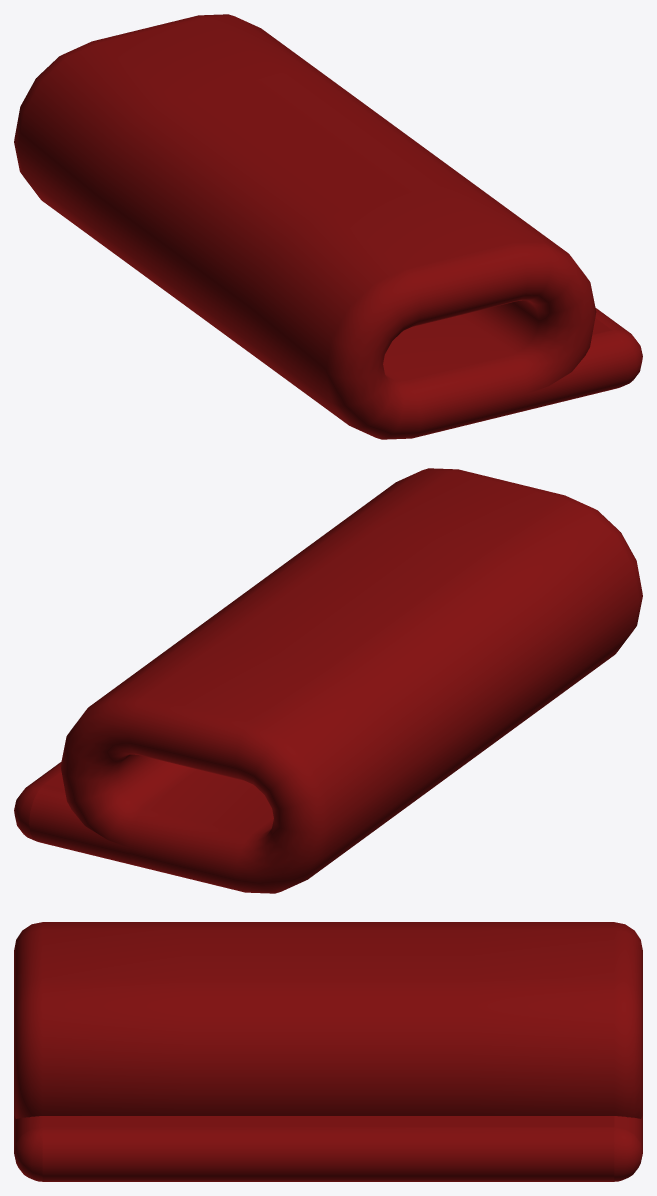
Rendered from LastLuna_Model_Item_Cloth.fbx.
3 views of the same model, one above another, from view 1: azimuth 30°, elevation 25°; view 2: azimuth 150°, elevation 25°; view 3: azimuth 270°, elevation 25° (orthographic). The views are drawn at different scales.
Parts seen in each view (by area): view 1: Cloth001; view 2: Cloth001; view 3: Cloth001.
Boxes of the visible parts, box(x1,y1,x2,y2) form: Cloth001: box(14, 14, 642, 439); Cloth001: box(14, 468, 642, 893); Cloth001: box(14, 922, 642, 1181).
Bounding box in the file's own units: 29.38 × 15 × 55.
